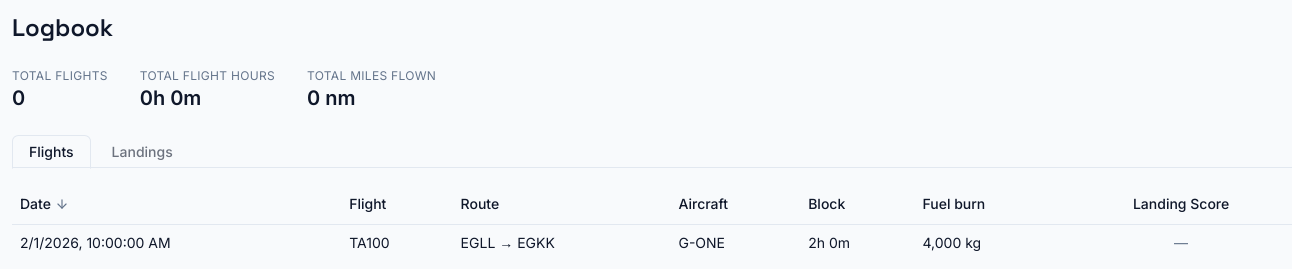
Scenario: LogbookView list › offers a Flights | Landings tab switcher, and the Landings tab shows logbookListAllLandings data
expect the text "TA100" is shown: met, box [349,232,390,252]
Click the tab "Landings" at (142, 152), box [95,135,190,169]
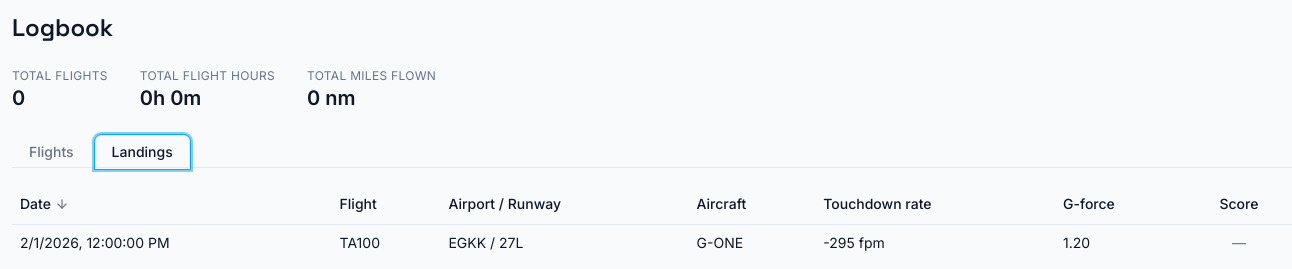
expect the column heading "Touchdown rate" is shown: met, box [815,184,1055,224]
